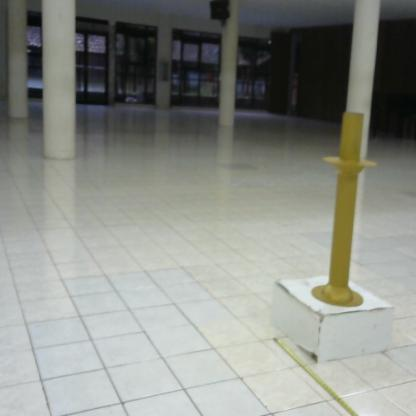pole: (309, 107, 382, 314)
